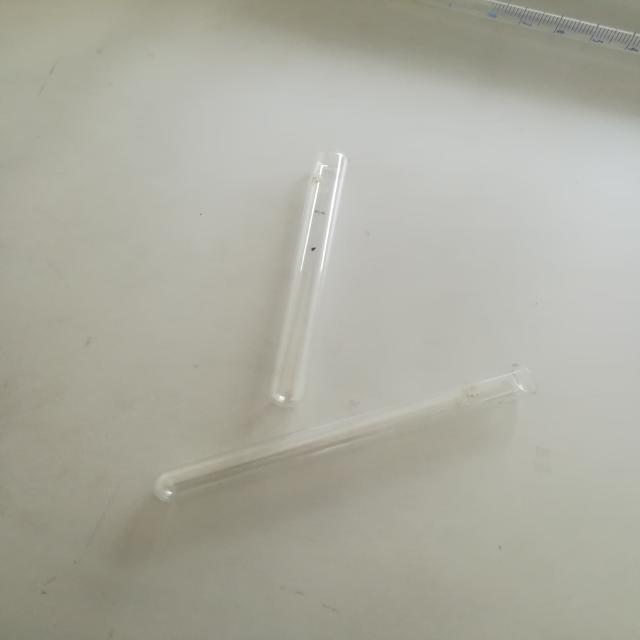Test_Tube: (134, 340, 575, 518), (222, 120, 364, 413)
